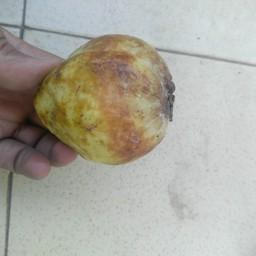Bad_guava: (33, 31, 176, 167)
